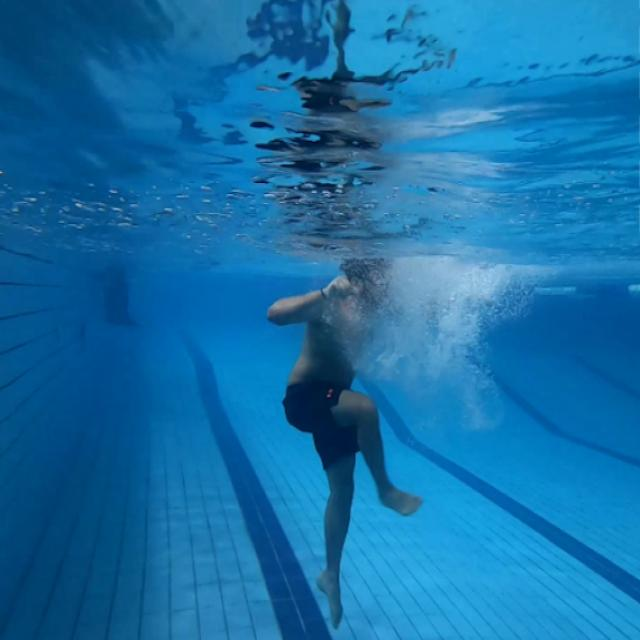Drowning: (266, 262, 424, 632)
